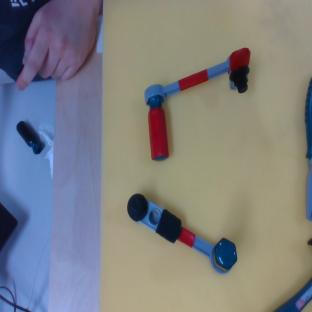non_pass: (120, 186, 243, 277)
pass: (115, 22, 268, 166)
